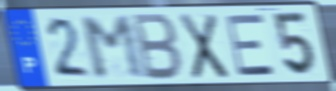2: (46, 15, 92, 82)
5: (270, 10, 318, 79)
B: (131, 12, 185, 83)
E: (223, 13, 278, 79)
M: (77, 14, 149, 82)
X: (177, 11, 231, 82)
